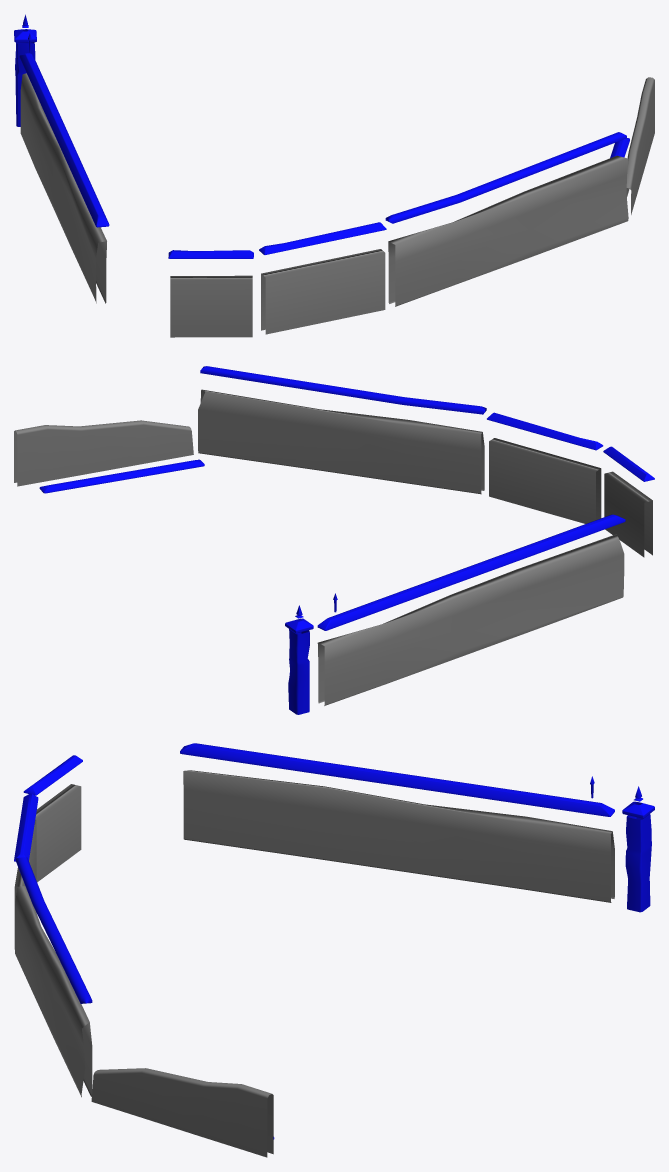
Rendered from BossWall2.obj.
3 renders of one model, top to bottom at view 1: azimuth 30°, elevation 25°; view 2: azimuth 150°, elevation 25°; view 3: azimuth 270°, elevation 25°, orthographic. The views are drawn at different scales.
Parts seen in each view (by area): view 1: BossWall_lowModular WallBundle1 Walls Wall9, BossWall_lowModular Wall10 WallBundle1 Walls, BossWall_lowModular WallBundle1 Walls Wall, BossWall_lowModular WallBundle1 Walls Wall12, Roofs BossWall_lowModular pCube5, Roofs BossWall_lowModular pCube13, BossWall_lowModular WallBundle1 Walls Wall8, pCube11 Roofs BossWall_lowModular, Roofs BossWall_lowModular pCube9, BossWall_lowModular Pole Poles Pole; view 2: BossWall_lowModular WallBundle1 Walls Wall, BossWall_lowModular WallBundle1 Walls Wall9, BossWall_lowModular WallBundle1 Walls Wall8, BossWall_lowModular Wall10 WallBundle1 Walls, Roofs BossWall_lowModular pCube5, BossWall_lowModular WallBundle1 Walls Wall12, Roofs BossWall_lowModular pCube13, BossWall_lowModular Pole Poles Pole, Roofs BossWall_lowModular pCube15, pCube11 Roofs BossWall_lowModular, Roofs BossWall_lowModular pCube9; view 3: BossWall_lowModular WallBundle1 Walls Wall, BossWall_lowModular WallBundle1 Walls Wall8, BossWall_lowModular WallBundle1 Walls Wall9, Roofs BossWall_lowModular pCube5, BossWall_lowModular WallBundle1 Walls Wall12, BossWall_lowModular Pole Poles Pole, Roofs BossWall_lowModular pCube13, pCube11 Roofs BossWall_lowModular, Roofs BossWall_lowModular pCube9.
Part boxes in pixels (x1,y1,x2,y2): BossWall_lowModular WallBundle1 Walls Wall9: (388,155,628,306); BossWall_lowModular Wall10 WallBundle1 Walls: (261,249,385,334); BossWall_lowModular WallBundle1 Walls Wall: (20,73,106,303); BossWall_lowModular WallBundle1 Walls Wall12: (170,275,252,337); Roofs BossWall_lowModular pCube5: (19,53,109,227); Roofs BossWall_lowModular pCube13: (385,132,626,223); BossWall_lowModular WallBundle1 Walls Wall8: (626,77,654,214); pCube11 Roofs BossWall_lowModular: (259,222,386,254); Roofs BossWall_lowModular pCube9: (168,250,253,258); BossWall_lowModular Pole Poles Pole: (15,42,35,126); BossWall_lowModular WallBundle1 Walls Wall: (317,534,624,705); BossWall_lowModular WallBundle1 Walls Wall9: (198,389,484,494); BossWall_lowModular WallBundle1 Walls Wall8: (14,420,193,486); BossWall_lowModular Wall10 WallBundle1 Walls: (489,438,601,523); Roofs BossWall_lowModular pCube5: (317,514,625,630); BossWall_lowModular WallBundle1 Walls Wall12: (604,471,652,557); Roofs BossWall_lowModular pCube13: (200,366,486,414); BossWall_lowModular Pole Poles Pole: (288,629,309,714); Roofs BossWall_lowModular pCube15: (39,459,204,493); pCube11 Roofs BossWall_lowModular: (487,412,603,450); Roofs BossWall_lowModular pCube9: (603,446,654,481); BossWall_lowModular WallBundle1 Walls Wall: (183,770,614,902); BossWall_lowModular WallBundle1 Walls Wall8: (91,1068,273,1157); BossWall_lowModular WallBundle1 Walls Wall9: (15,885,92,1097); Roofs BossWall_lowModular pCube5: (180,743,614,816); BossWall_lowModular WallBundle1 Walls Wall12: (34,784,81,882); BossWall_lowModular Pole Poles Pole: (625,814,651,912); Roofs BossWall_lowModular pCube13: (15,857,92,1003); pCube11 Roofs BossWall_lowModular: (14,794,38,861); Roofs BossWall_lowModular pCube9: (23,755,82,795).
Size of the model in its own units: 74.53 by 13.18 by 62.56.
